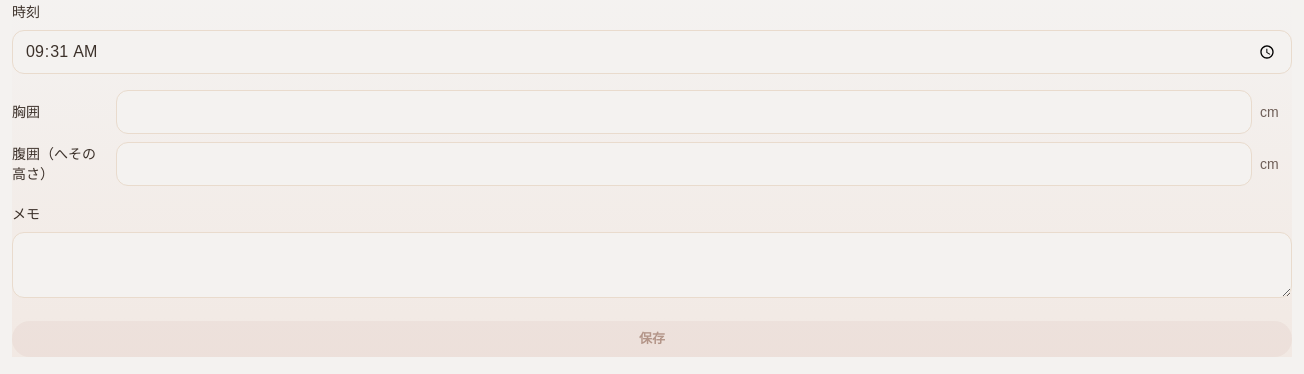
Test case: GirthForm › rejects out-of-range values
Type "29.9" into the number field labelled "胸囲" at (684, 112), box [116,90,1252,134]
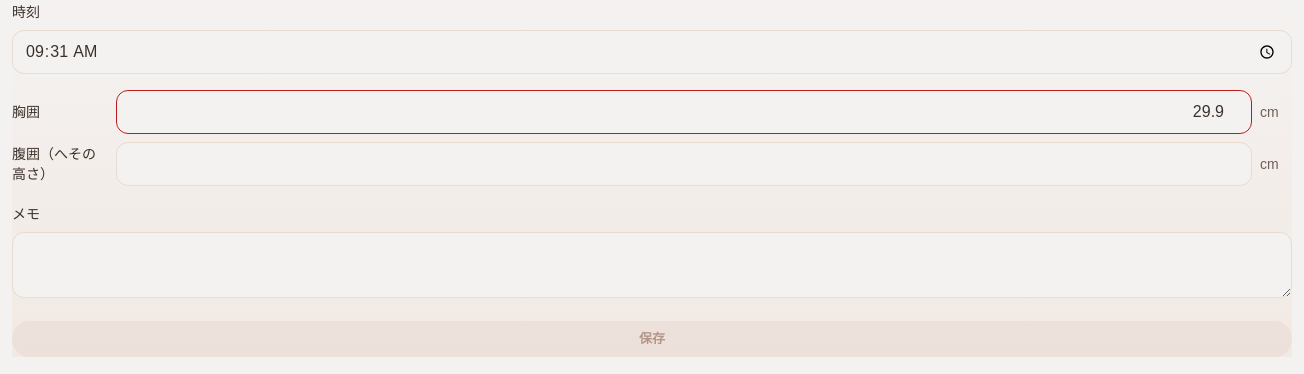
Expected: the button "保存" is disabled, [12,321,1292,357]
Replace the text in the number field labelled "胸囲" with "250.1" at (684, 112), box [116,90,1252,134]
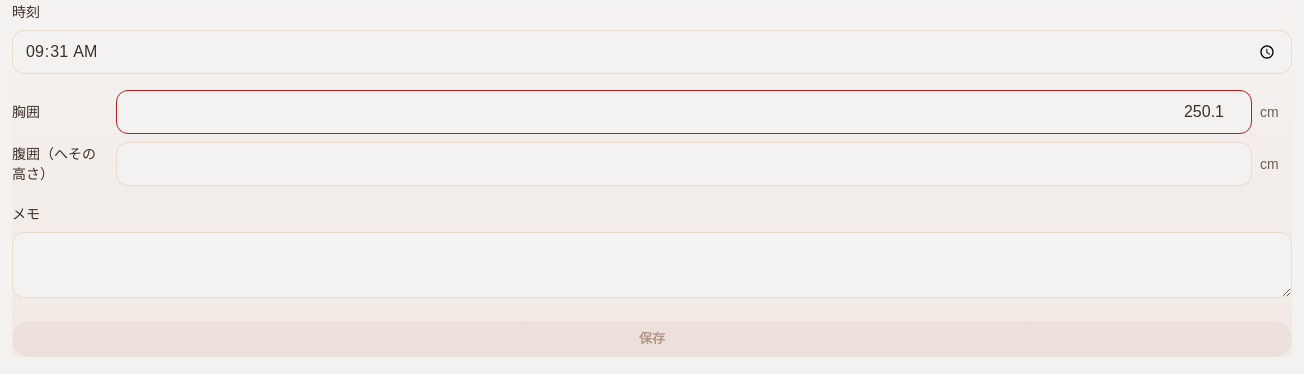
Expected: the button "保存" is disabled, [12,321,1292,357]
Replace the text in the number field labelled "胸囲" with "90" at (684, 112), box [116,90,1252,134]
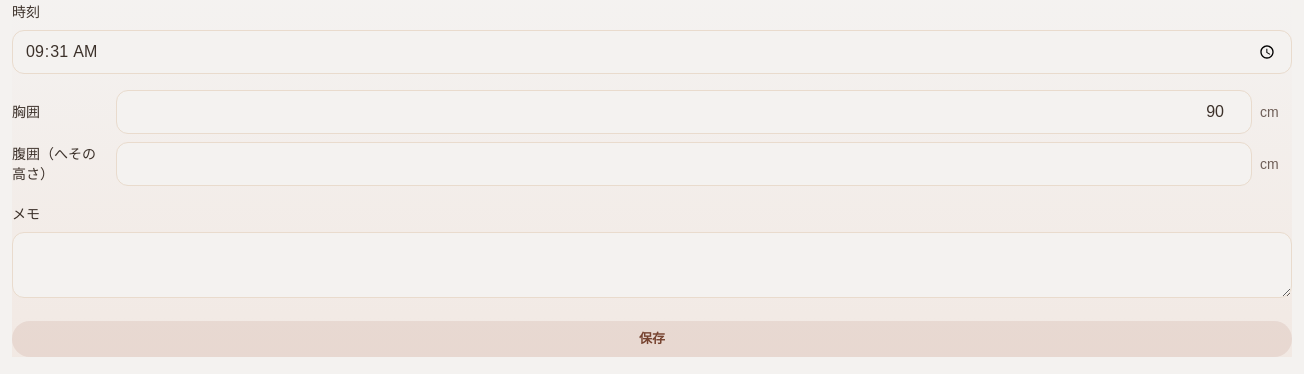
Expected: the button "保存" is enabled, [12,321,1292,357]
